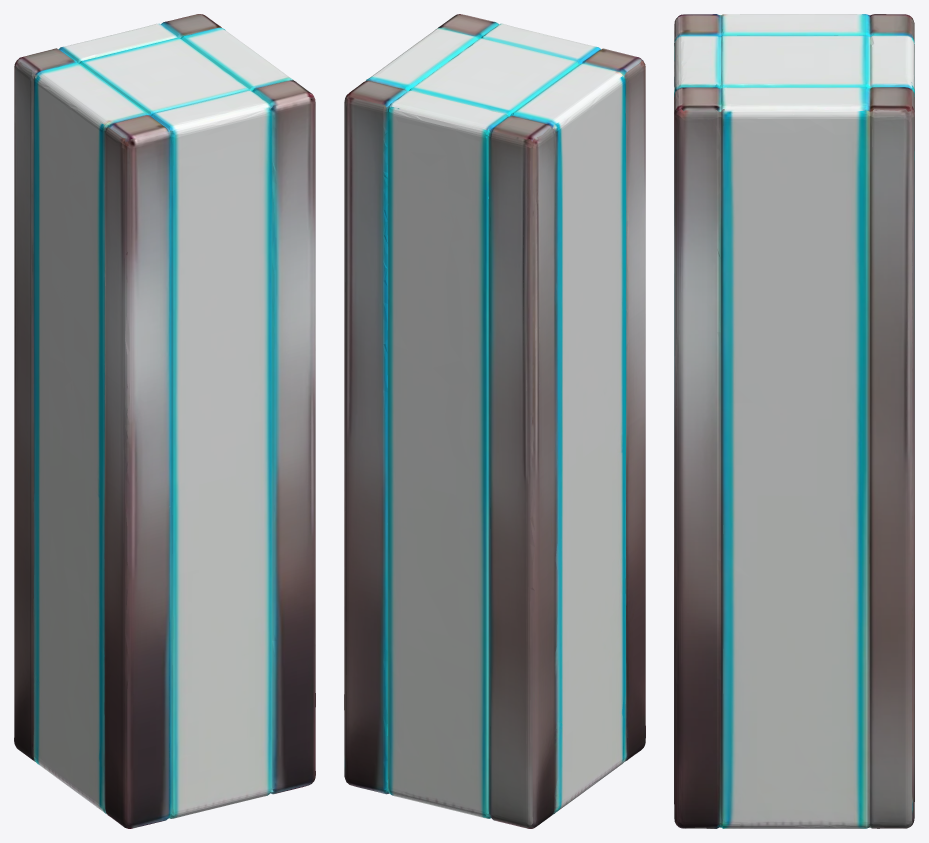
File: pillar.glb
3 views of the same model, side by side, from view 1: azimuth 30°, elevation 25°; view 2: azimuth 150°, elevation 25°; view 3: azimuth 270°, elevation 25° (orthographic). The views are drawn at different scales.
Parts seen in each view (by area): view 1: tmpdukszm49.ply; view 2: tmpdukszm49.ply; view 3: tmpdukszm49.ply.
Part boxes in pixels (x1,y1,x2,y2): tmpdukszm49.ply: (14,14,315,828); tmpdukszm49.ply: (344,14,645,828); tmpdukszm49.ply: (674,14,914,828).
Bounding box in the file's own units: 0.2922 × 1 × 0.3018.
Materials: 1 (1 with a texture image).
